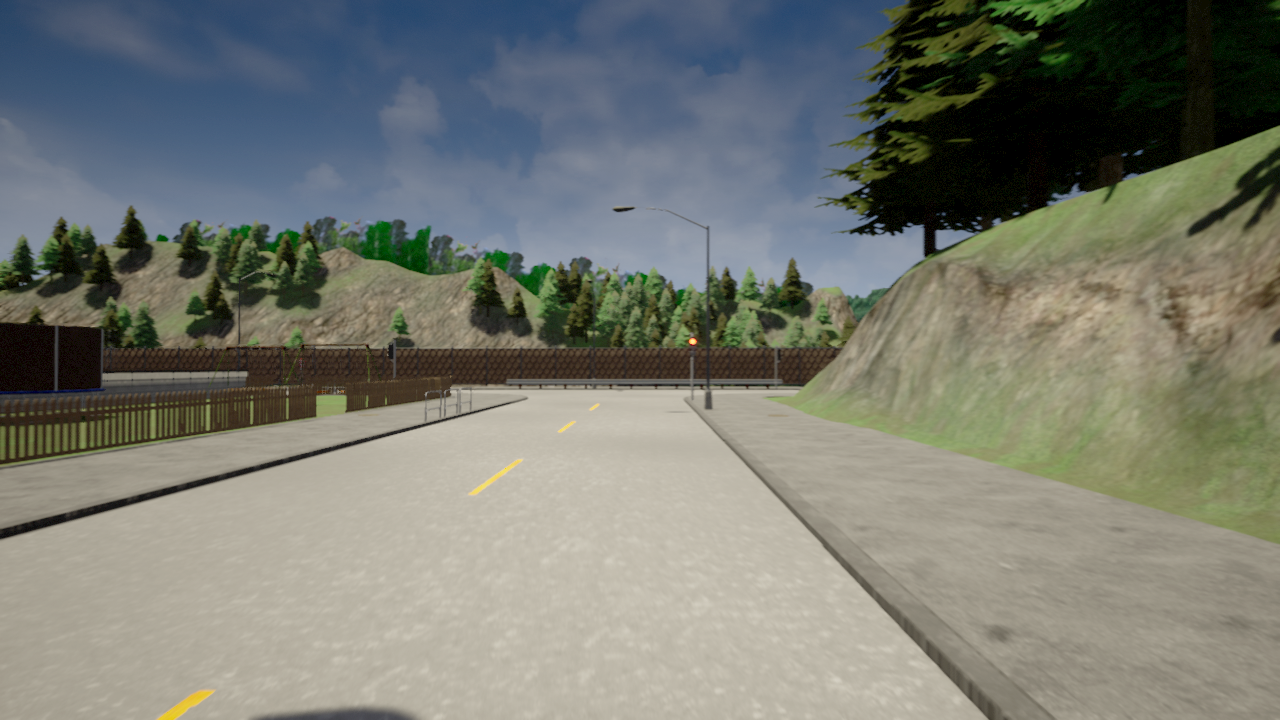red: (687, 336, 697, 358)
